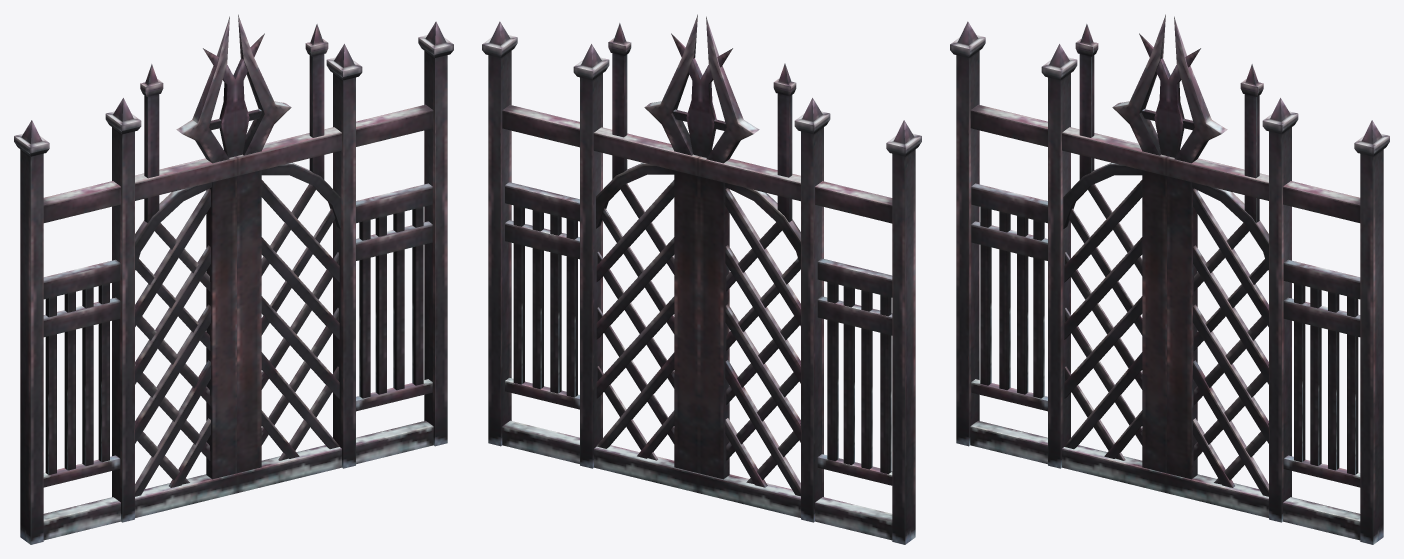
File: yw_anxizhidi_damen.FBX
3 renders of one model, left to right at view 1: azimuth 30°, elevation 25°; view 2: azimuth 150°, elevation 25°; view 3: azimuth 330°, elevation 25°, orthographic.
Parts seen in each view (by area): view 1: yw_anxizhidi_damen; view 2: yw_anxizhidi_damen; view 3: yw_anxizhidi_damen.
Boxes of the visible parts, x1,y1,x2,y2 form: yw_anxizhidi_damen: [14, 14, 453, 544]; yw_anxizhidi_damen: [482, 14, 921, 544]; yw_anxizhidi_damen: [950, 14, 1389, 544].
Bounding box in the file's own units: 544 × 583 × 36.08.
